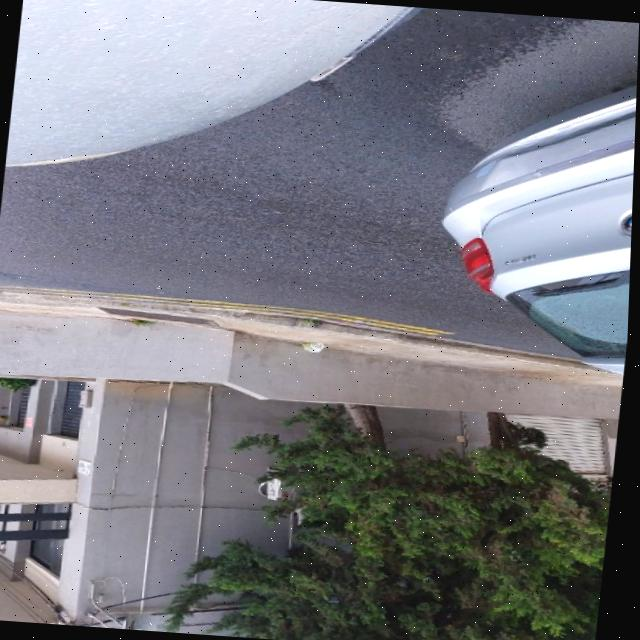Organic Waste -White Bag-: (303, 341, 328, 353)
